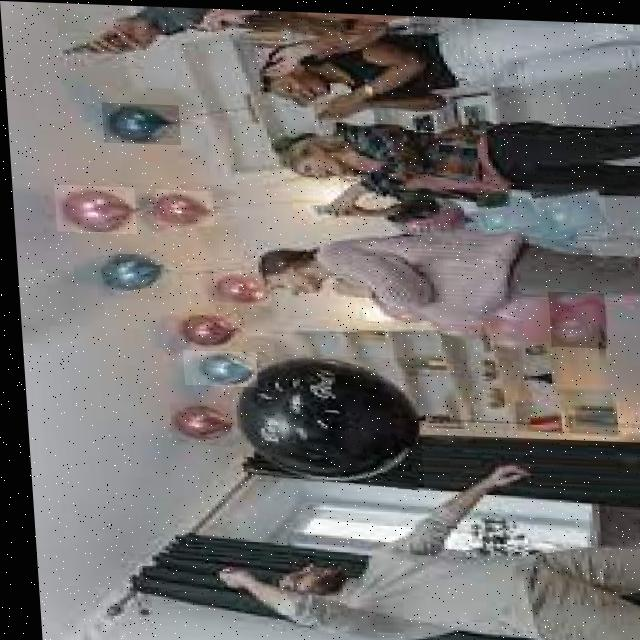balloon: (231, 349, 418, 483), (530, 178, 604, 235), (51, 183, 135, 233), (92, 248, 166, 298), (544, 286, 603, 343), (100, 101, 179, 143), (474, 188, 547, 232), (477, 291, 546, 337), (178, 348, 253, 385), (164, 400, 227, 443), (153, 187, 211, 224), (210, 268, 268, 303), (177, 310, 232, 343)
